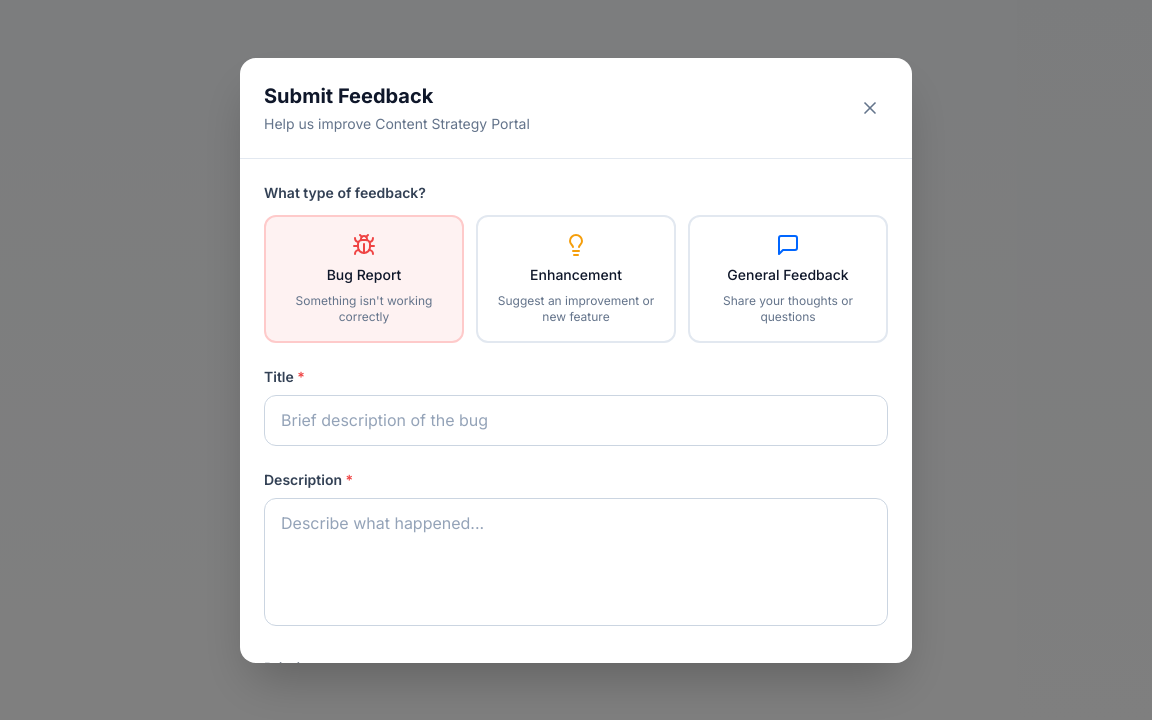
FeedbackForm › feedback type selection › shows enhancement-specific fields when Enhancement is selected
Click the text "Enhancement" at (576, 274), box [530,264,622,284]
(page scrolled)
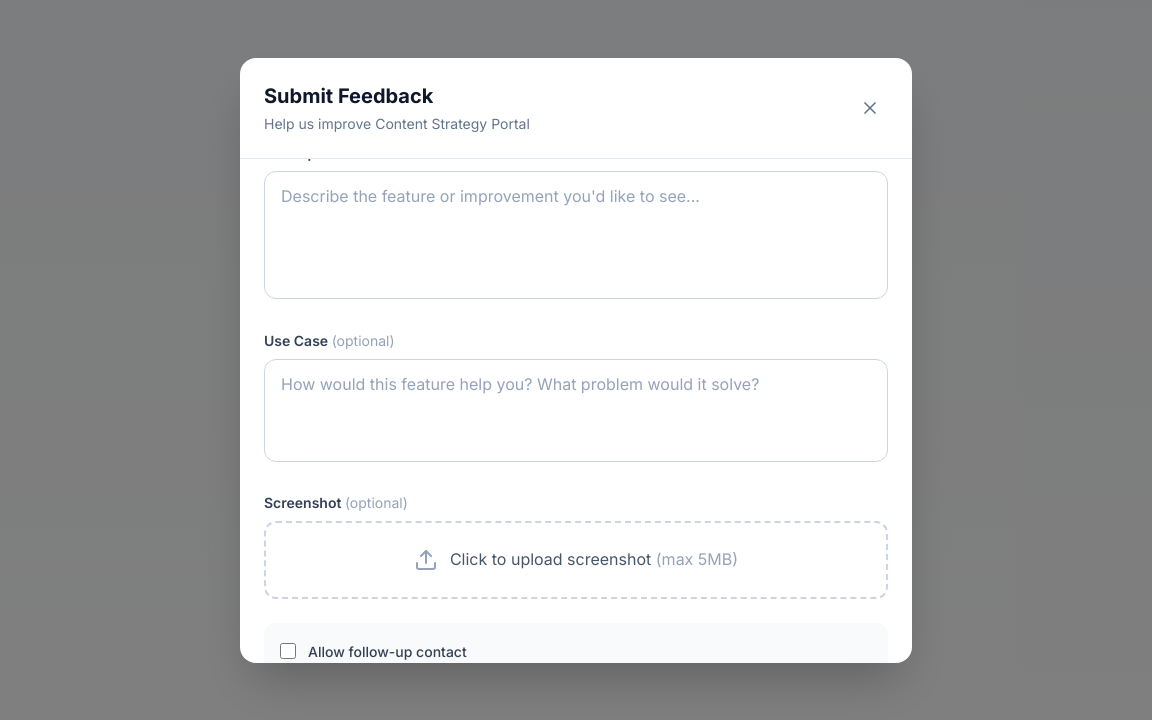
Result: the text box labelled "Use Case (optional)" is shown at [264,359,888,462]
Result: the label labelled "Priority" is gone
